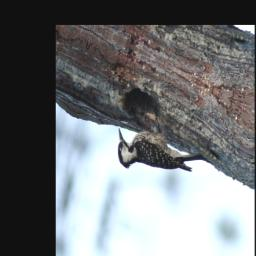Woodpecker: (109, 91, 210, 206)
